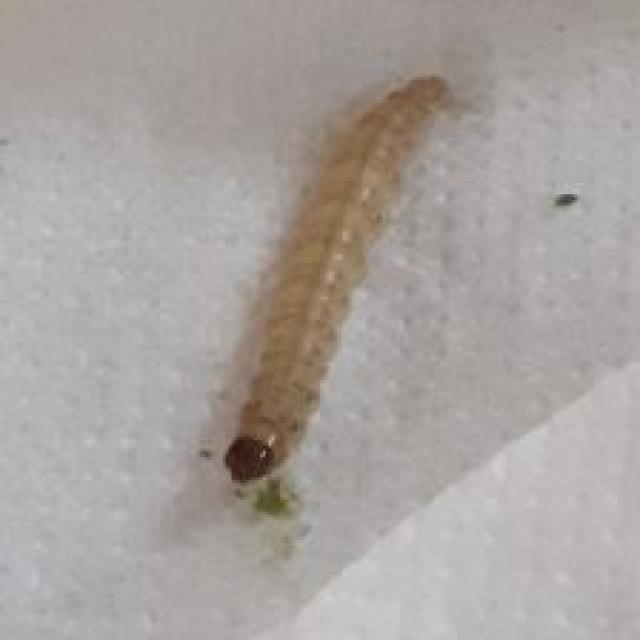white mucus: (222, 74, 479, 512)
